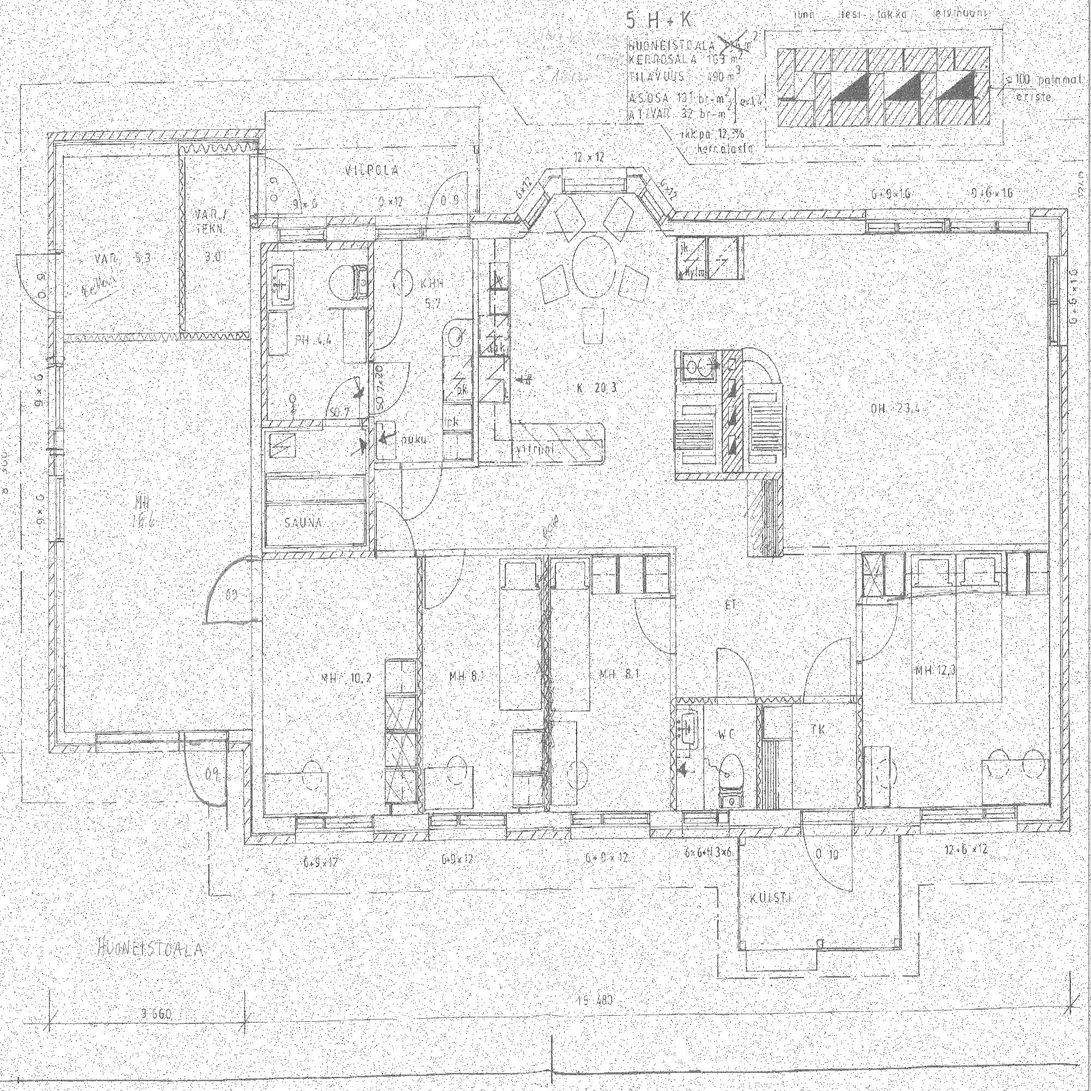wall: (244, 806, 1067, 833), (1048, 215, 1067, 833), (48, 133, 64, 753), (679, 215, 1067, 238), (48, 132, 266, 157), (48, 730, 263, 753), (250, 217, 368, 251), (368, 217, 508, 239), (723, 350, 744, 482), (516, 171, 555, 239), (249, 549, 263, 730), (635, 171, 672, 238), (374, 549, 674, 557), (777, 549, 1068, 557), (249, 420, 265, 557), (548, 171, 641, 194), (250, 217, 267, 341), (244, 730, 263, 834), (368, 239, 374, 557), (250, 132, 265, 251), (674, 697, 863, 706), (64, 333, 267, 341), (668, 549, 674, 806), (417, 558, 423, 806), (250, 342, 267, 420), (473, 239, 478, 468), (179, 157, 185, 341), (250, 549, 374, 557), (250, 420, 368, 428), (857, 557, 863, 705), (368, 460, 478, 468), (674, 474, 783, 482), (857, 705, 863, 806), (757, 705, 762, 806), (777, 474, 783, 557), (509, 217, 523, 239), (666, 215, 679, 238), (738, 238, 744, 280)
